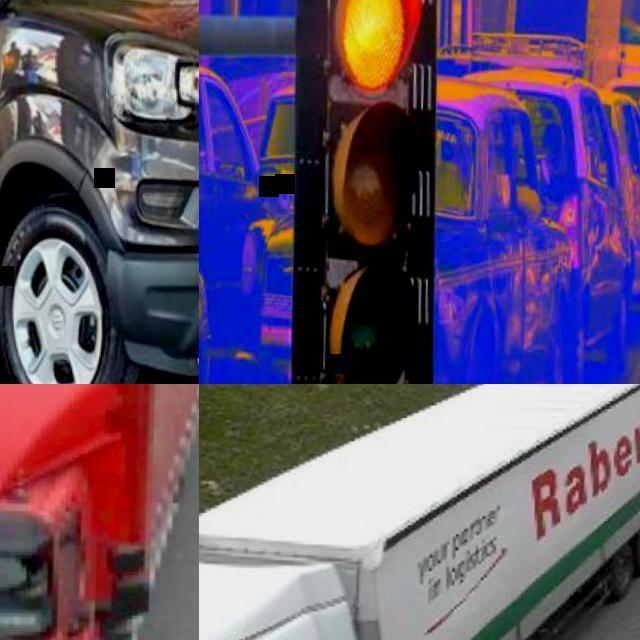car: (1, 18, 201, 382), (1, 384, 198, 639)
